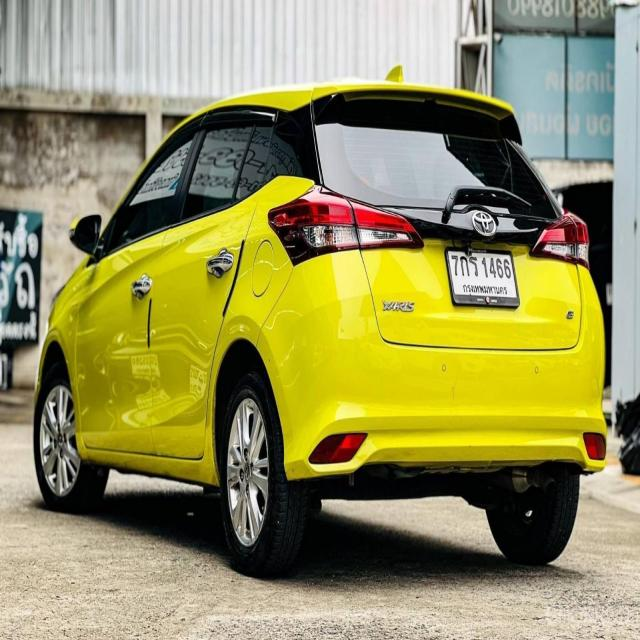license_plate: (444, 244, 523, 314)
